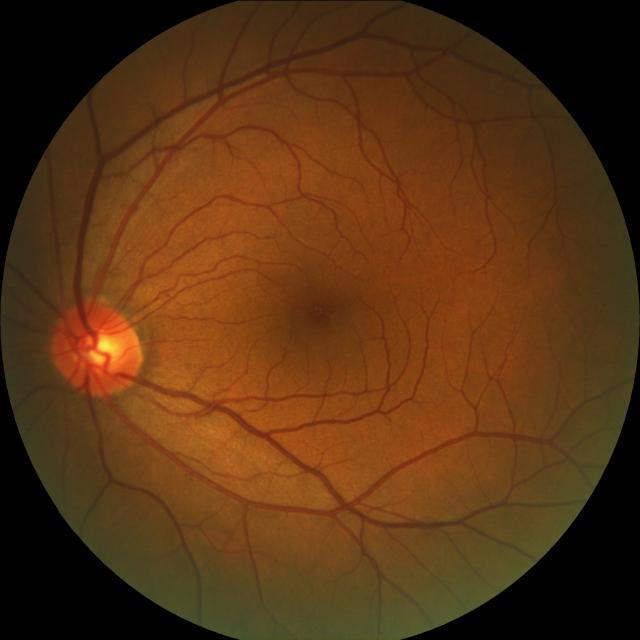OC: (78, 328, 122, 373)
OD: (54, 300, 144, 397)
